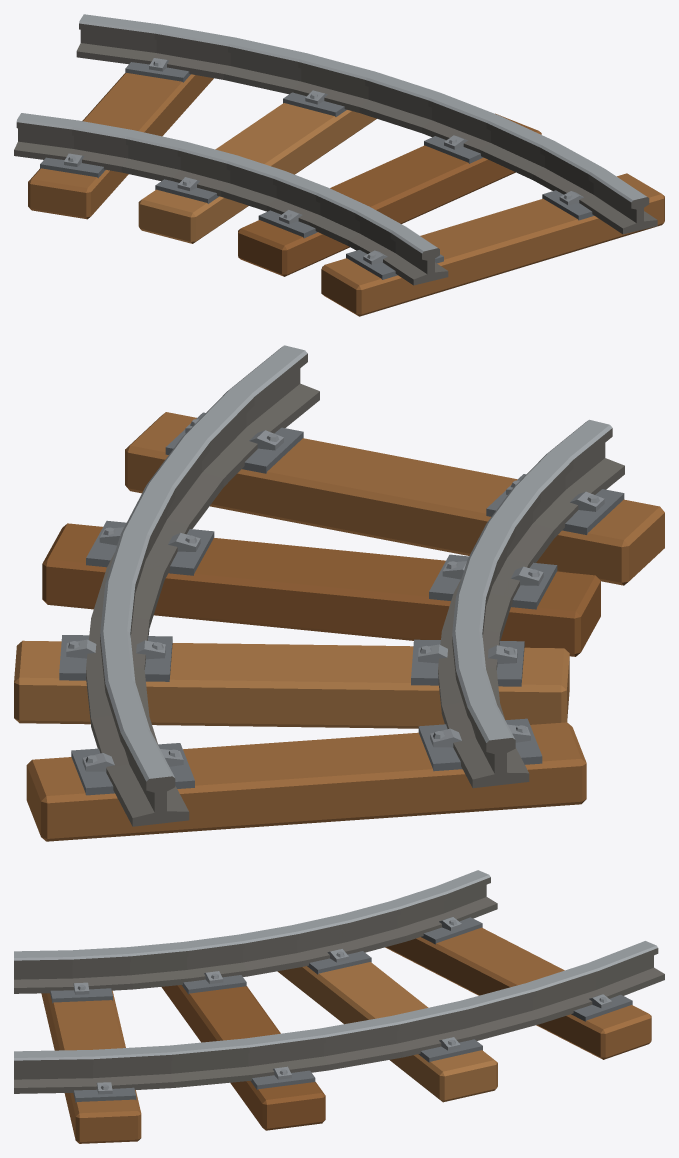
Rendered from Mine Rail Curve 45 Degrees.glb.
3 renders of one model, top to bottom at view 1: azimuth 30°, elevation 25°; view 2: azimuth 150°, elevation 25°; view 3: azimuth 270°, elevation 25°, orthographic. The views are drawn at different scales.
Visible parts, largest first — view 1: Mine Rail Curve 45 Degrees.Static; view 2: Mine Rail Curve 45 Degrees.Static; view 3: Mine Rail Curve 45 Degrees.Static.
Part boxes in pixels (x1=…): Mine Rail Curve 45 Degrees.Static: x1=14, y1=14, x2=664, y2=316; Mine Rail Curve 45 Degrees.Static: x1=14, y1=345, x2=664, y2=841; Mine Rail Curve 45 Degrees.Static: x1=14, y1=870, x2=664, y2=1143.
Size of the model in its own units: 1.71 by 0.226 by 2.12.
